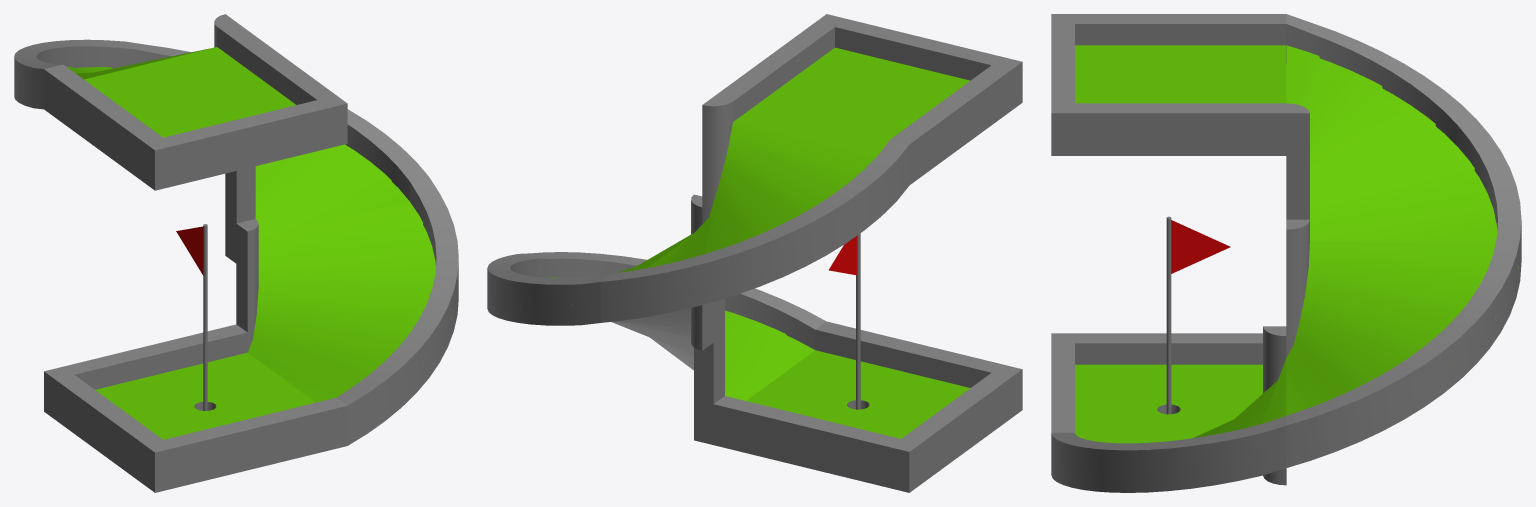
File: course7.fbx
3 views of the same model, side by side, from view 1: azimuth 30°, elevation 25°; view 2: azimuth 150°, elevation 25°; view 3: azimuth 270°, elevation 25° (orthographic). The views are drawn at different scales.
Parts seen in each view (by area): view 1: curveup4, polySurface3, start8, curveup3, curveup2, polySurface4, polySurface2; view 2: polySurface3, curveup2, start8, curveup4, curveup3, polySurface4, polySurface2; view 3: curveup3, curveup2, start8, polySurface3, curveup4, polySurface4, polySurface2.
Part boxes in pixels (bbox=[...]): curveup4: bbox=[236, 176, 458, 445]; polySurface3: bbox=[44, 324, 347, 492]; start8: bbox=[44, 22, 347, 190]; curveup3: bbox=[126, 41, 428, 263]; curveup2: bbox=[14, 14, 235, 109]; polySurface4: bbox=[177, 224, 207, 410]; polySurface2: bbox=[176, 226, 203, 275]; polySurface3: bbox=[713, 321, 1022, 492]; curveup2: bbox=[600, 97, 909, 322]; start8: bbox=[714, 14, 1022, 185]; curveup4: bbox=[519, 252, 826, 444]; curveup3: bbox=[487, 194, 713, 350]; polySurface4: bbox=[829, 233, 860, 409]; polySurface2: bbox=[829, 236, 856, 275]; curveup3: bbox=[1286, 219, 1521, 467]; curveup2: bbox=[1286, 14, 1521, 240]; start8: bbox=[1051, 14, 1286, 155]; polySurface3: bbox=[1051, 333, 1262, 443]; curveup4: bbox=[1051, 326, 1286, 492]; polySurface4: bbox=[1166, 216, 1229, 414]; polySurface2: bbox=[1171, 220, 1230, 273].
Bounding box in the file's own units: 20 × 17 × 20.
